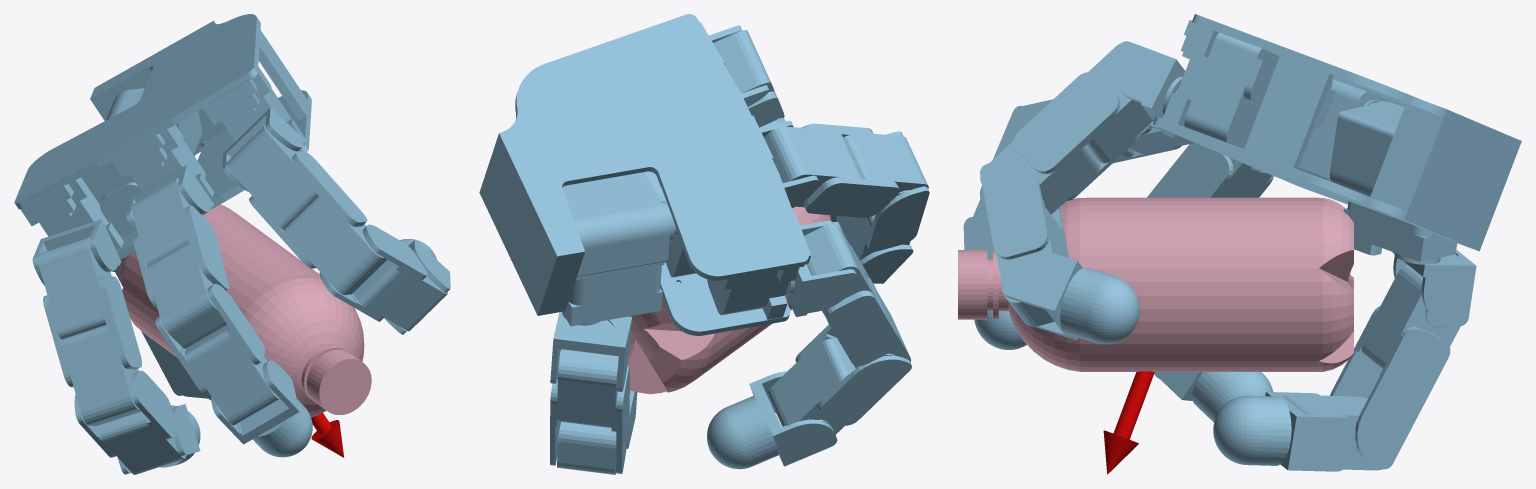
3 renders of one model, left to right at view 1: azimuth 30°, elevation 25°; view 2: azimuth 150°, elevation 25°; view 3: azimuth 270°, elevation 25°, orthographic. The views are drawn at different scales.
Visible parts, largest first — view 1: world, water_bottle.stl; view 2: world, water_bottle.stl; view 3: world, water_bottle.stl.
Boxes of the visible parts, x1,y1,x2,y2 form: world: [14, 14, 450, 474]; water_bottle.stl: [120, 204, 371, 417]; world: [479, 14, 929, 474]; water_bottle.stl: [627, 206, 831, 394]; world: [963, 14, 1521, 474]; water_bottle.stl: [958, 197, 1353, 371].
Size of the model in its own units: 0.1532 by 0.172 by 0.1945.
